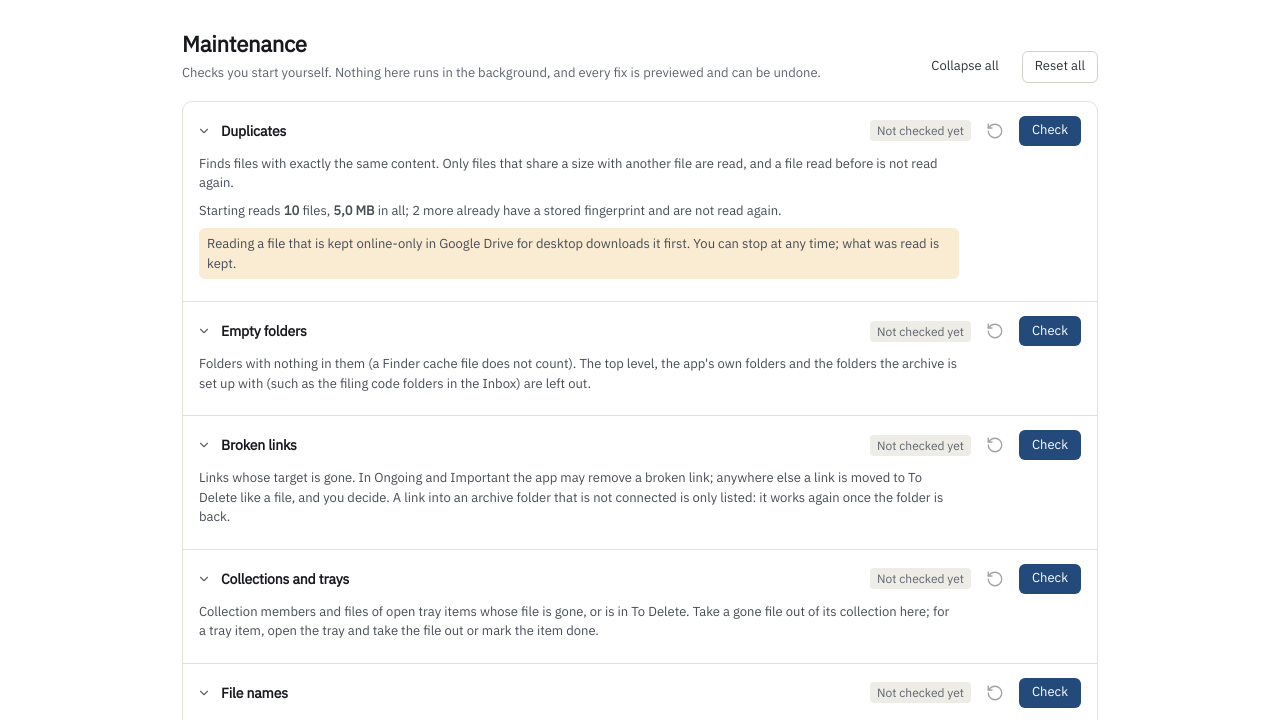
Test case: Maintenance screen › one copy to To Delete and another replaced with a link: one preview, one Apply, one Undo
Step 1. Click the button "Check" in the row of "Duplicates" → (1050, 131), box [1019,116,1081,146]
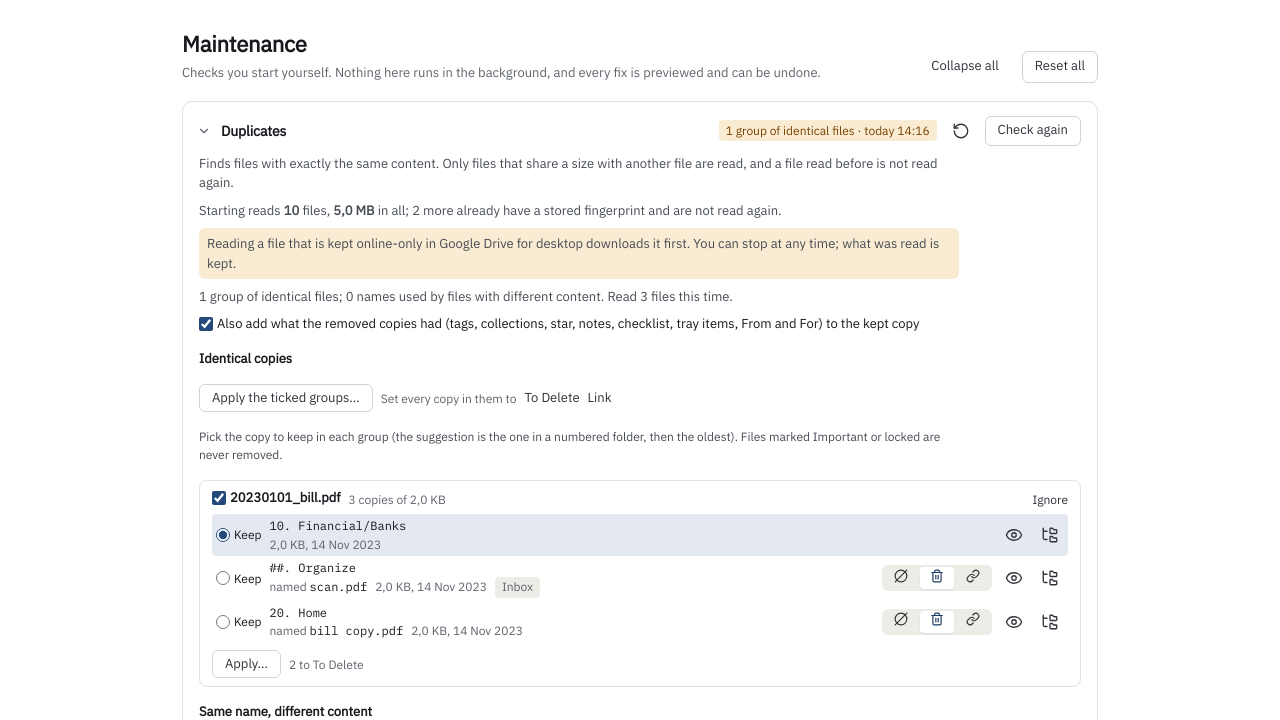
Step 2. Click the button named "Link" in the row of "20. Home" → (973, 622), box [956,610,990,632]
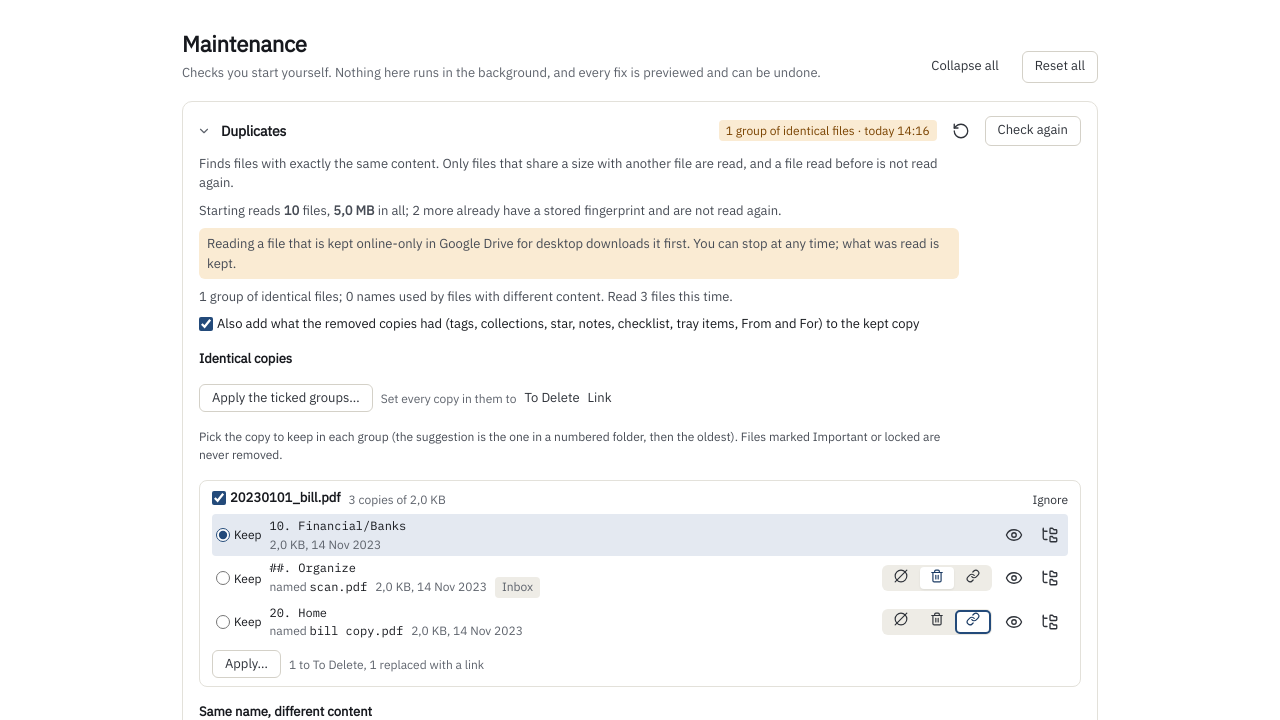
Expected: the text "1 to To Delete, 1 replaced with a link" is shown, [289,656,484,673]
Step 3. Click the button "Apply…" → (246, 664), box [212,650,281,678]
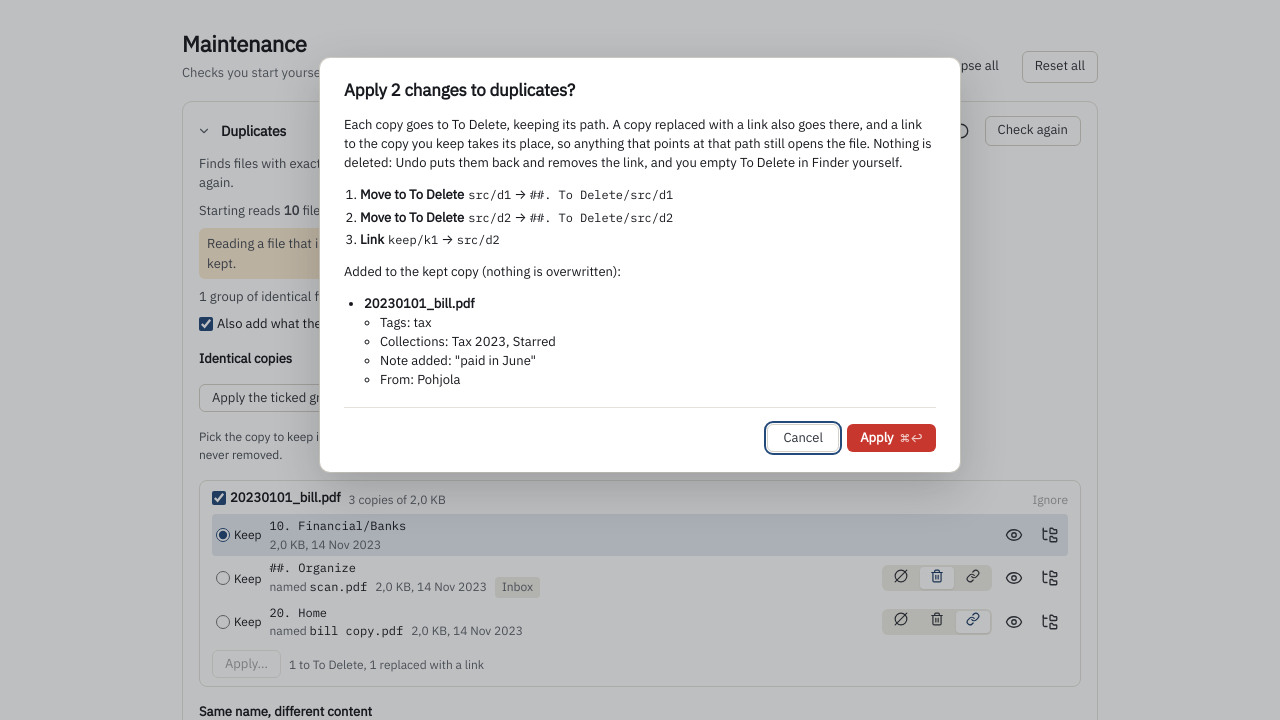
Expected: the dialog "Apply 2 changes to duplicates?" shows "Tags: tax", [380,314,432,331]
Expected: the dialog "Apply 2 changes to duplicates?" shows "Note added: \"paid in June\"", [380,352,536,369]
Expected: the dialog "Apply 2 changes to duplicates?" shows "Nothing is deleted", [344,135,932,171]
Step 4. Click the button "Apply⌘↩" → (892, 438), box [847,424,936,452]
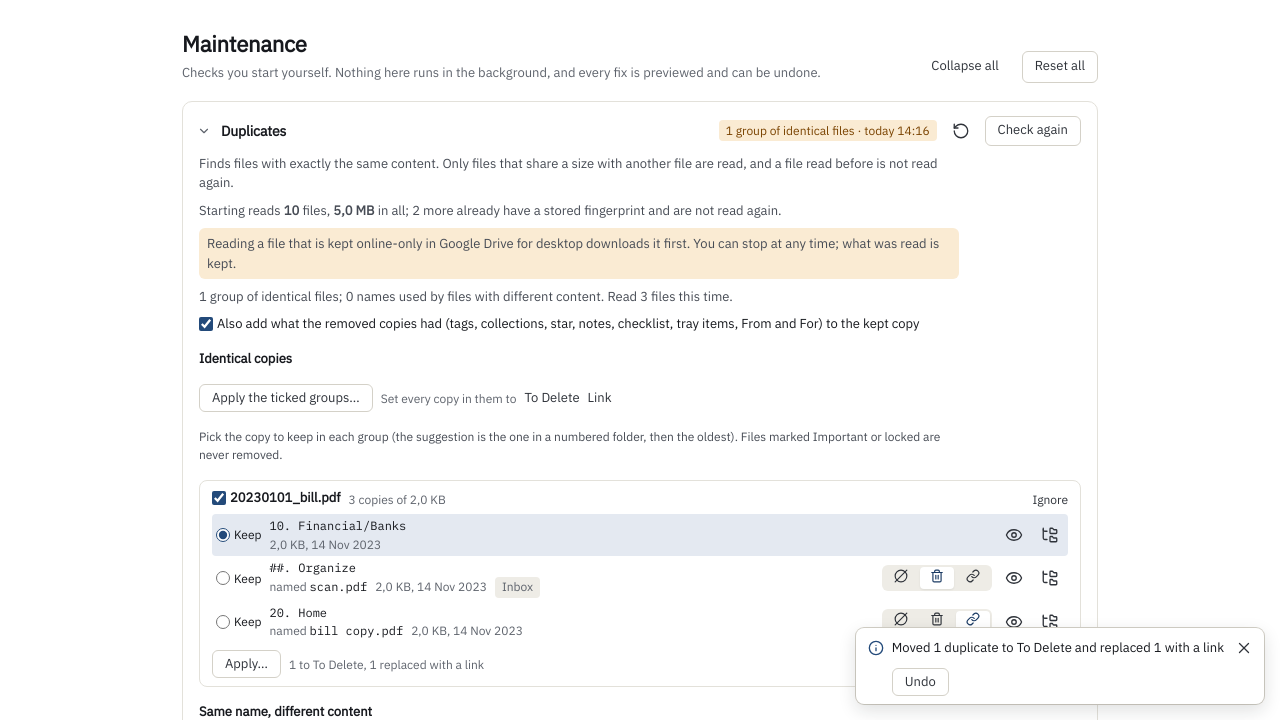
Expected: the text "Moved 1 duplicate to To Delete and replaced 1 with a link" is shown, [892,639,1224,657]
Step 5. Click the button "Undo" → (920, 682), box [892,668,949,696]
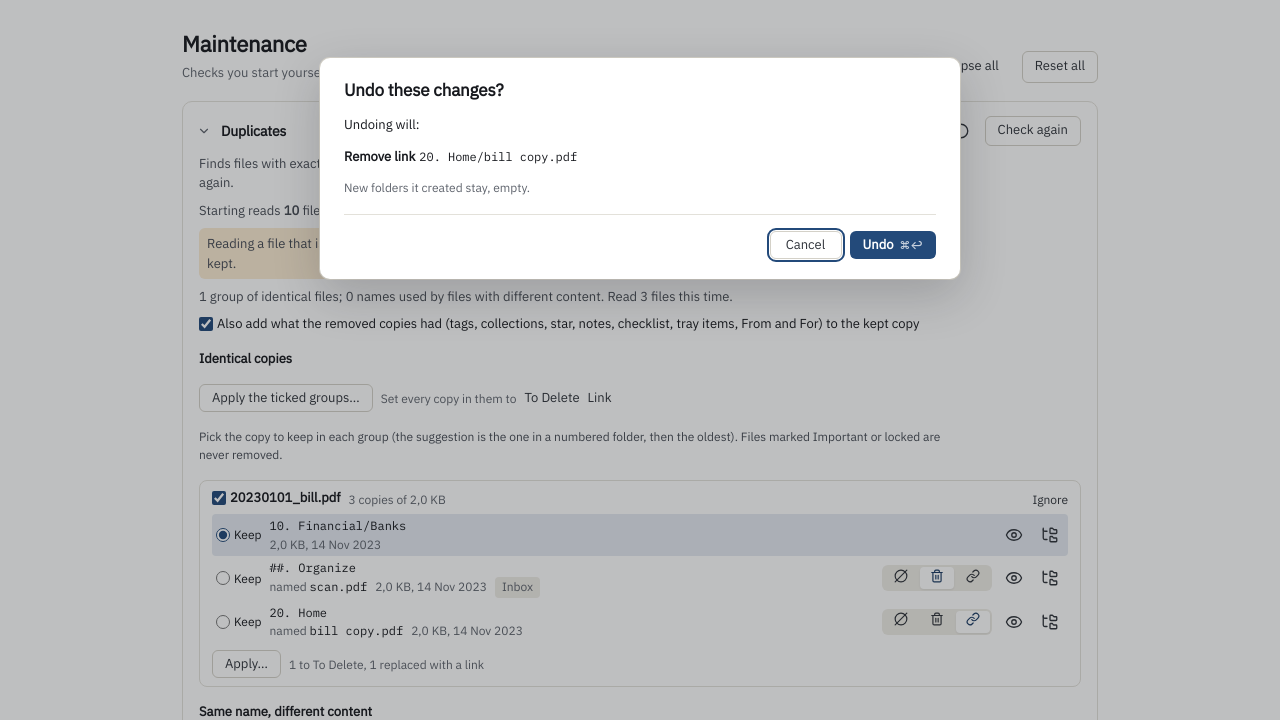
Expected: the dialog "Undo these changes?" is shown, [320,58,960,279]
